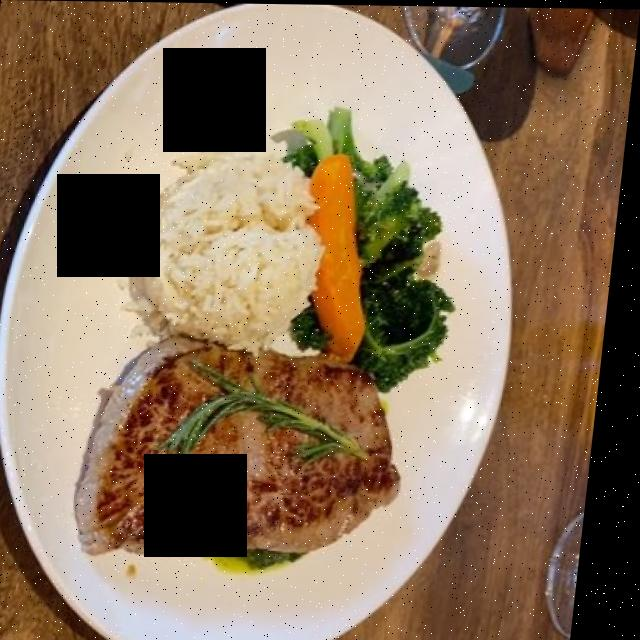beef-sirloin-steak: (95, 350, 405, 569)
butter-herb: (214, 531, 311, 574)
carrot-raw: (303, 145, 371, 351)
leaf-spinach: (307, 120, 461, 385)
rice: (138, 147, 321, 343)
